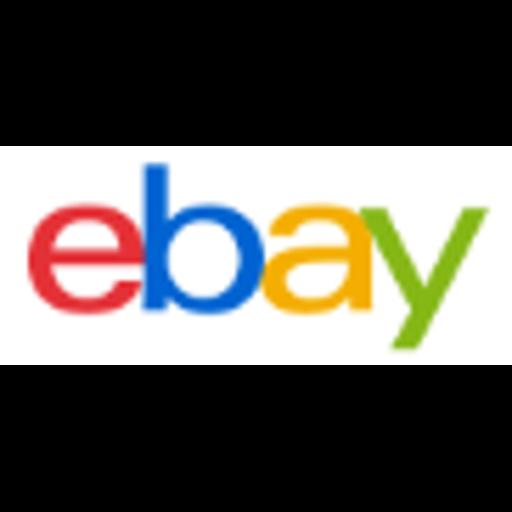eBay: (0, 146, 512, 365)
